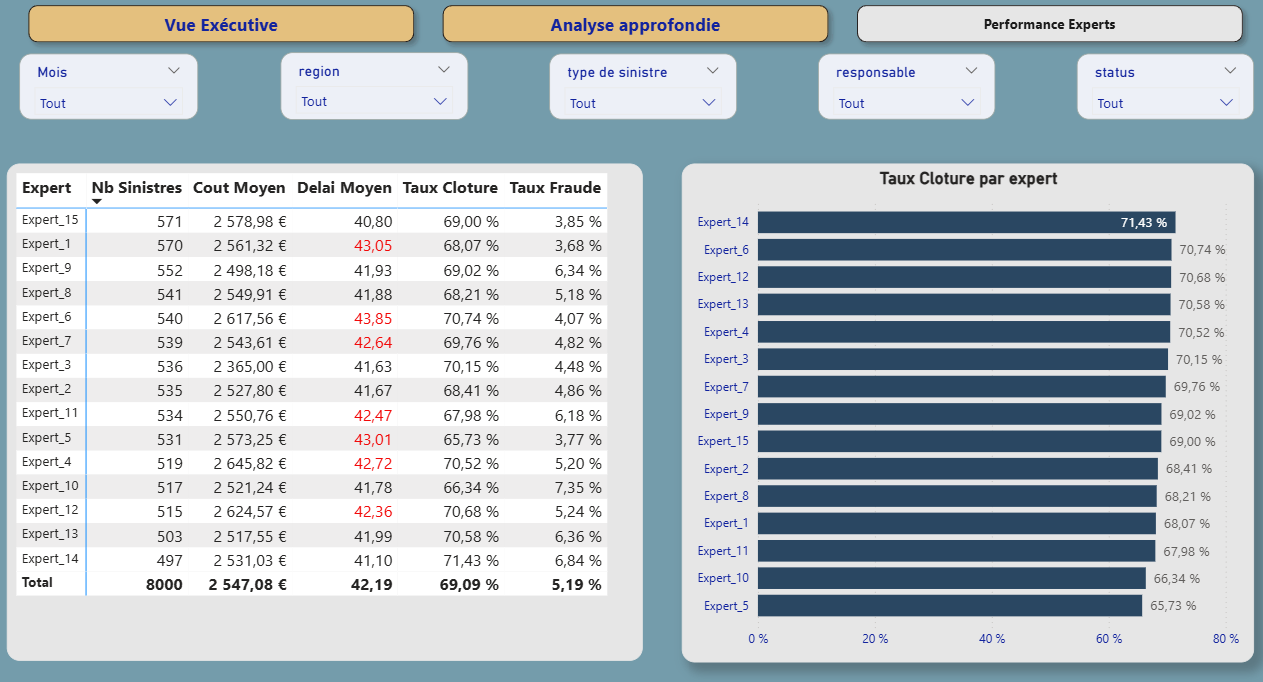

The dashboard page shown, as its layout file describes it:
{"tool":"powerbi","page":{"name":"Performance Experts","canvas":[1280,720],"ordinal":2},"visuals":[{"type":"pivotTable","fields":{"Rows":["Expert.expert_assigned"],"Values":["_mesures.Nb Sinistres","_mesures.Cout Moyen","_mesures.Delai Moyen","_mesures.Taux Cloture","_mesures.Taux Fraude"]},"box":[13.6,166.2,631.4,493.7],"z":0},{"type":"barChart","fields":{"Y":["_mesures.Taux Cloture"],"Category":["Expert.expert_assigned"]},"box":[683.5,166.2,568.2,495],"z":1000},{"type":"slicer","fields":{"Values":["Calendar.Mois"]},"box":[26.1,57.1,177.4,65.7],"z":2000},{"type":"slicer","fields":{"Values":["regions.region"]},"box":[285.3,55.8,186.1,67],"z":3000},{"type":"slicer","fields":{"Values":["claim_type.claim_type"]},"box":[552,57.1,186.1,65.7],"z":4000},{"type":"slicer","fields":{"Values":["regions.responsable"]},"box":[818.8,57.1,176.2,65.7],"z":5000},{"type":"slicer","fields":{"Values":["sinistres.status"]},"box":[1075.6,57.1,176.2,65.7],"z":6000},{"type":"pageNavigator","box":[26.1,0,1225.7,55.8],"z":6001}]}

Visuals, with their boxes on the page's 1280x720 design canvas (x1, y1, x2, y2). These are canvas units, not pixel positions in the 1263x682 screenshot, which may show the page scaled, cropped or inside an application window:
pivotTable - Expert.expert_assigned x _mesures.Nb Sinistres: x1=14, y1=166, x2=645, y2=660
barChart - _mesures.Taux Cloture x Expert.expert_assigned: x1=684, y1=166, x2=1252, y2=661
slicer - Calendar.Mois: x1=26, y1=57, x2=204, y2=123
slicer - regions.region: x1=285, y1=56, x2=471, y2=123
slicer - claim_type.claim_type: x1=552, y1=57, x2=738, y2=123
slicer - regions.responsable: x1=819, y1=57, x2=995, y2=123
slicer - sinistres.status: x1=1076, y1=57, x2=1252, y2=123
pageNavigator: x1=26, y1=0, x2=1252, y2=56
